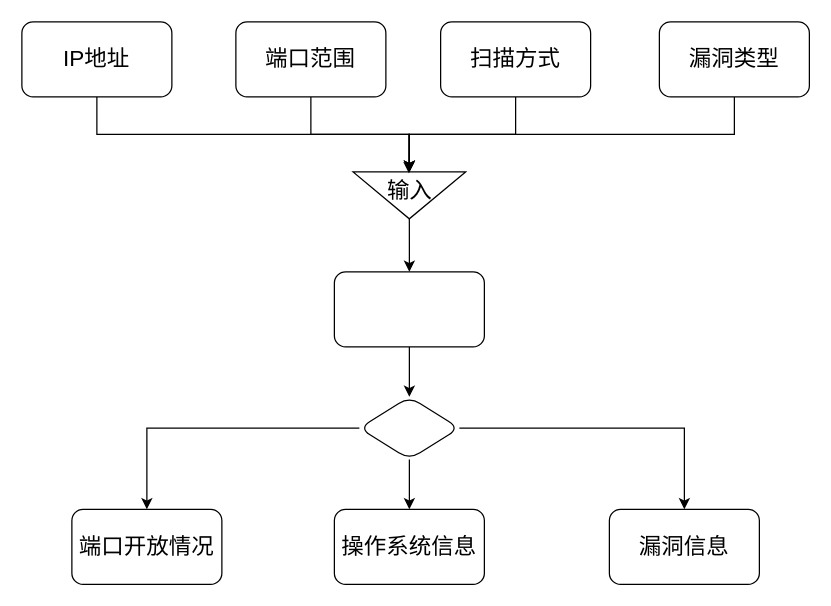
The diagram is 831 pixels wide and 606 high, and some of its shapes have lost their labels. Each missing label, with the box of its shape:
GUI用户界面: (333, 271, 484, 347)
输出: (358, 396, 459, 459)
